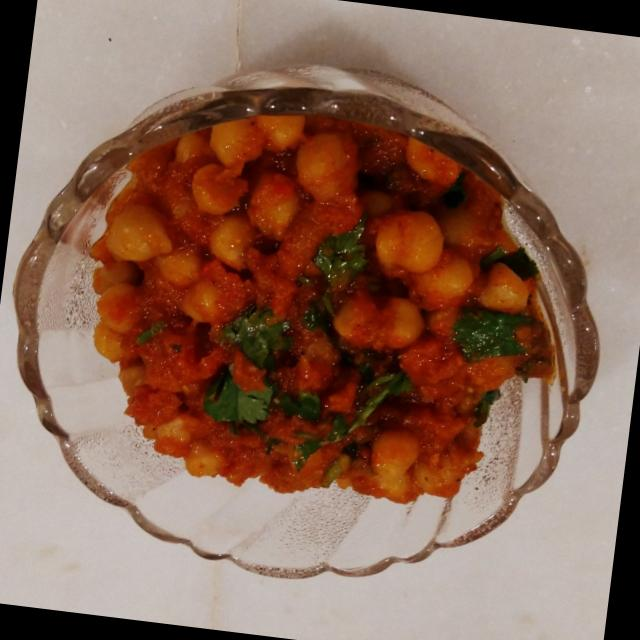Chole: (60, 90, 582, 523)
